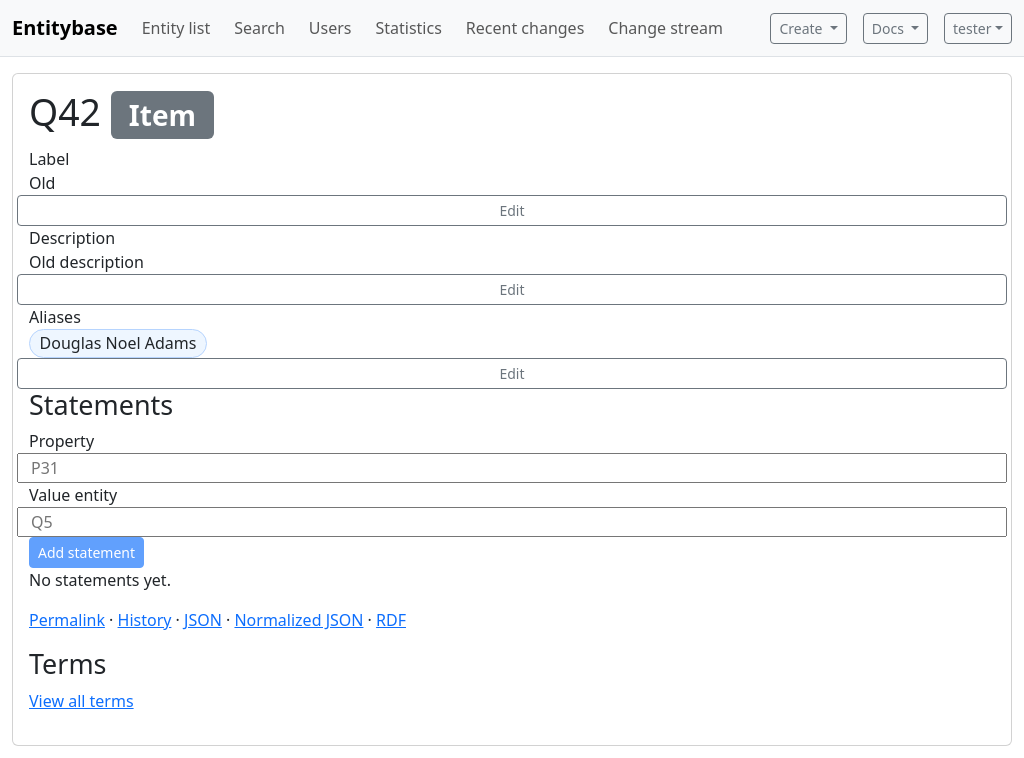
Test: App › edits the label: edit input, save, reload
Click the button with test id "edit-label-button" at (512, 210), box [17,195,1007,226]
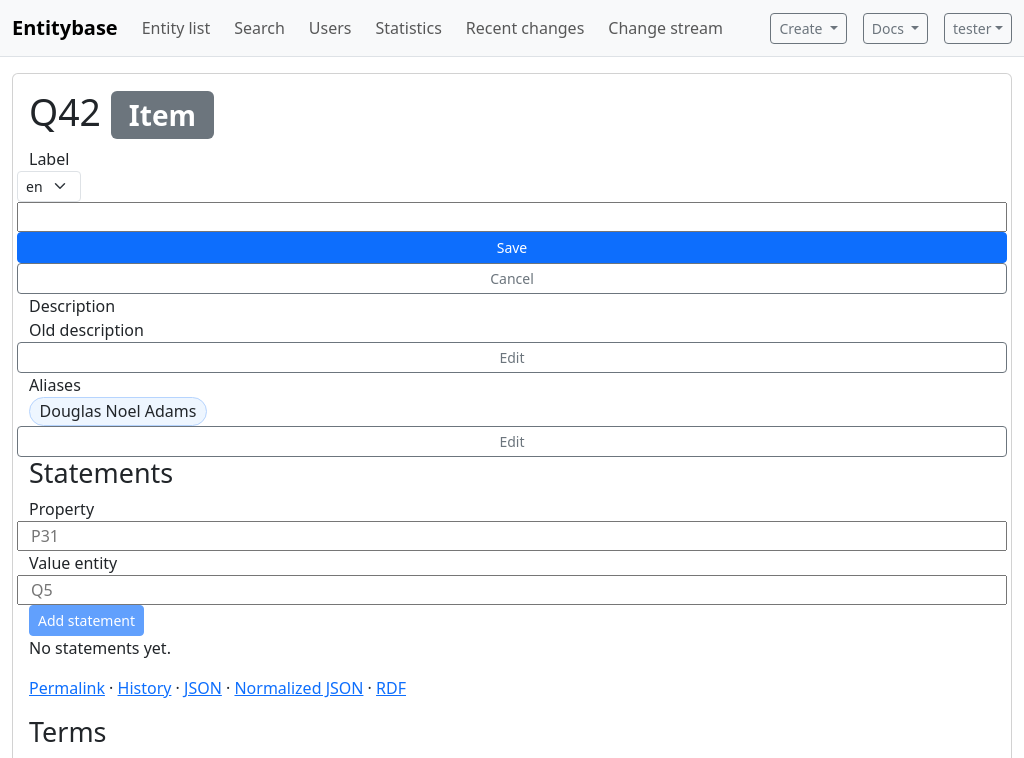
Now the field with test id "label-edit-input" is shown
Type "New" into the field with test id "label-edit-input" at (512, 217), box [17,202,1007,232]
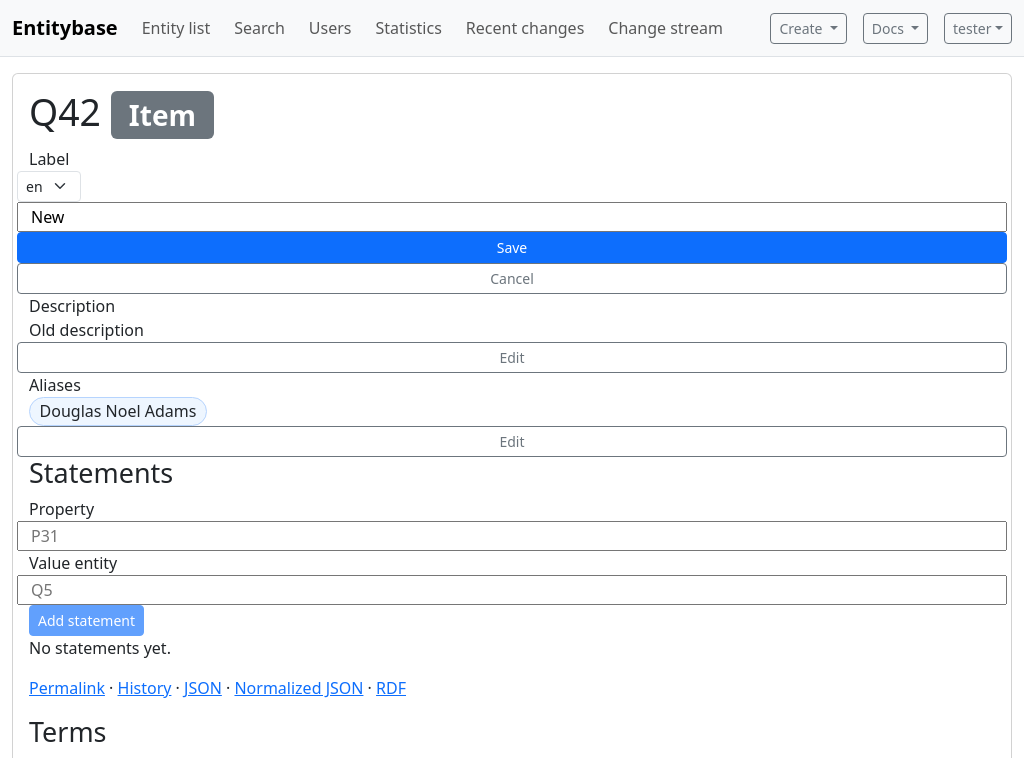
Click the button with test id "save-label-button" at (512, 247), box [17,232,1007,263]
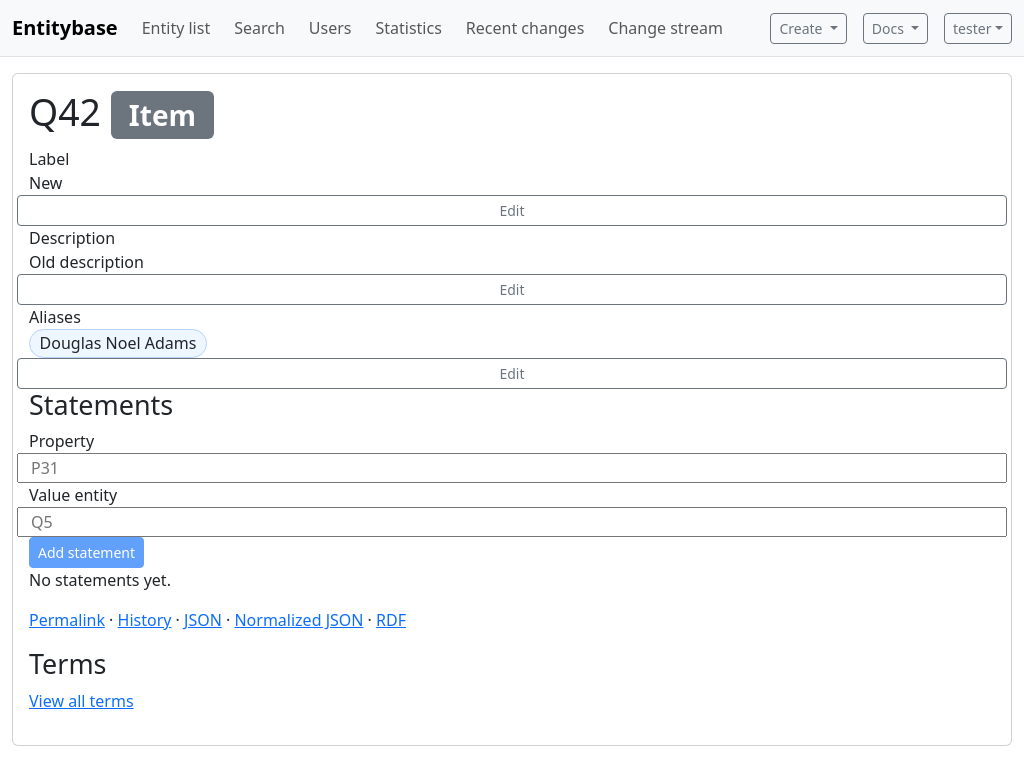
Now the text with test id "item-label" reads "New", box [29,172,62,194]
